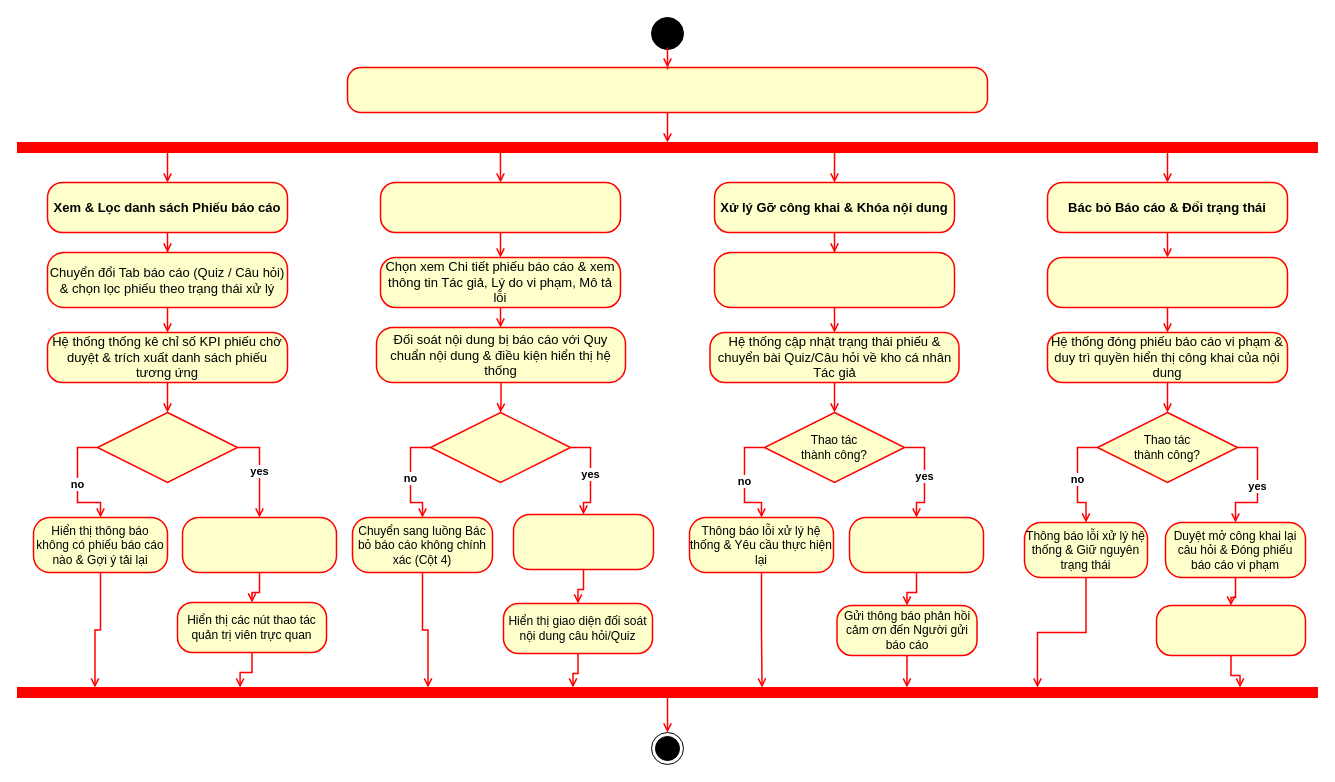
Image size: 1335x782. Some labels were removed from this diagram. Each missing label, with the centre of its shape:
"Chọn Bỏ qua (Dismissed) báo cáo sai hoặc chọn Công khai lại nội dung đã sửa" belongs at [1167,282].
"Chọn Gỡ công khai (Lock) & đánh dấu phiếu báo cáo thành Đã xử lý (Resolved)" belongs at [834,279].
"Gửi thông báo kết quả đã xử lý xong cho Người báo cáo & Tác giả" belongs at [1230,630].
"Gửi thông báo yêu cầu Tác giả chỉnh sửa nội dung trong kho cá nhân" belongs at [916,544].
"Hiển thị bảng danh sách phiếu báo cáo vi phạm chi tiết" belongs at [259,544].
"Nội dung có vi phạm?" belongs at [500,447].
"Quản trị viên (Admin) chọn chức năng Quản lý Báo cáo vi phạm" belongs at [667,89].
"Tìm thấy báo cáo?" belongs at [167,447].
"Xem chi tiết & Đối soát báo cáo" belongs at [500,207].
"Xác nhận vi phạm & Chuyển sang luồng Gỡ công khai (Cột 3)" belongs at [583,541].
